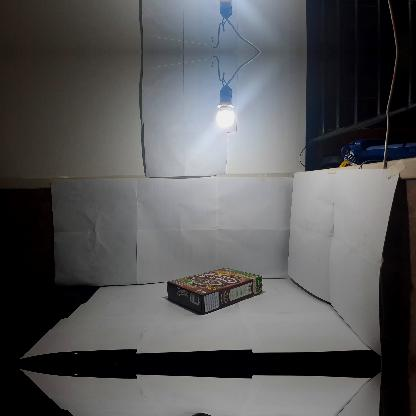Koko-Krunch: (166, 268, 262, 314)
